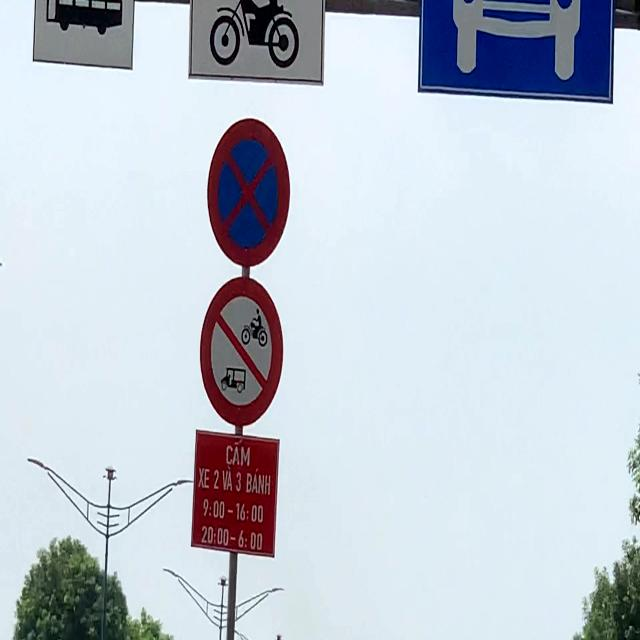P.130: (207, 117, 290, 268)
